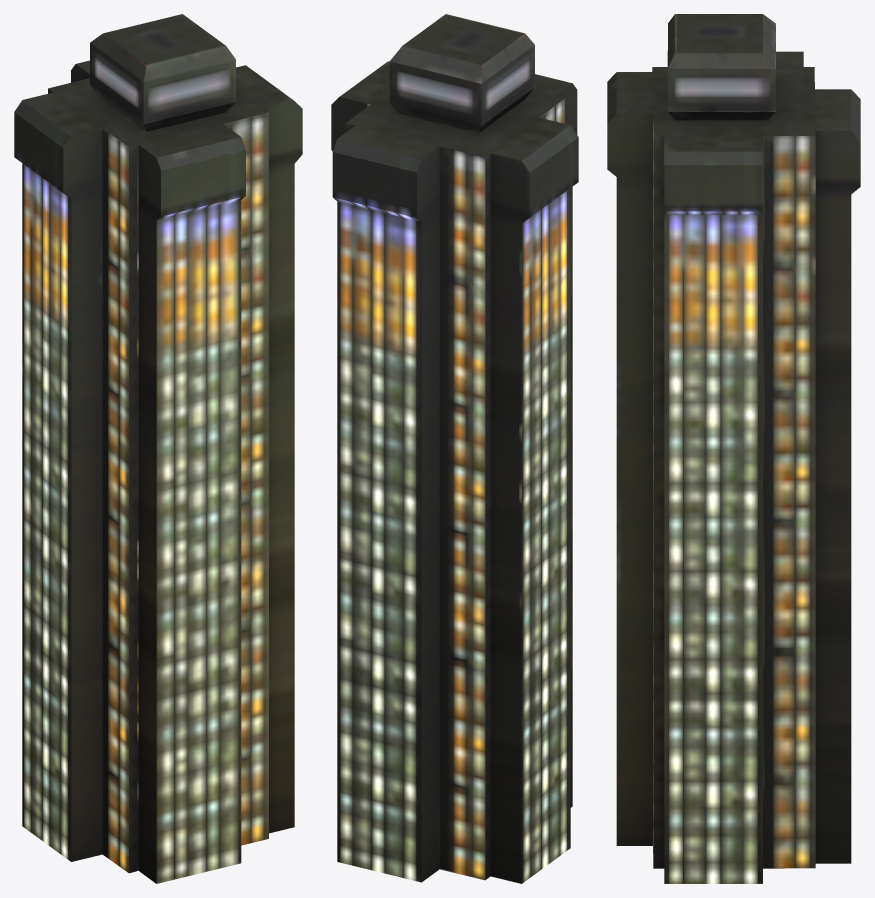
The model's file is background_buildings_1.006_background_buildings_1_0_lev3.glb.
The picture shows the model from 3 angles, left to right: view 1: azimuth 30°, elevation 25°; view 2: azimuth 150°, elevation 25°; view 3: azimuth 270°, elevation 25°; orthographic projection.
Visible parts, largest first — view 1: background_buildings_1.006_background_buildings_1_0_lev3; view 2: background_buildings_1.006_background_buildings_1_0_lev3; view 3: background_buildings_1.006_background_buildings_1_0_lev3.
Part boxes in pixels (<box>): background_buildings_1.006_background_buildings_1_0_lev3: <box>14,14,302,883</box>; background_buildings_1.006_background_buildings_1_0_lev3: <box>331,14,578,883</box>; background_buildings_1.006_background_buildings_1_0_lev3: <box>607,14,860,883</box>.
Size of the model in its own units: 6.88 by 23.76 by 6.82.
Materials: 1 (1 with a texture image).
